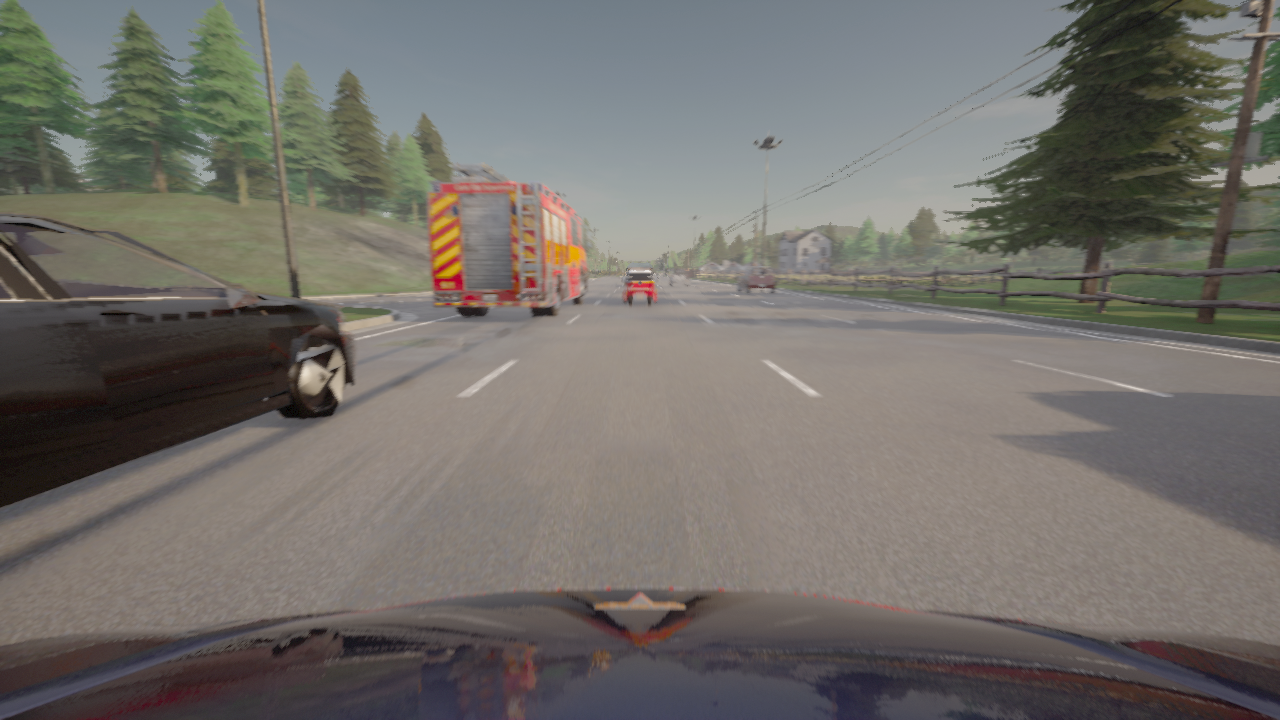cyclist: (0, 588, 1279, 719), (428, 163, 592, 316), (622, 269, 658, 305), (737, 268, 775, 293), (626, 263, 653, 278), (668, 270, 688, 286)
